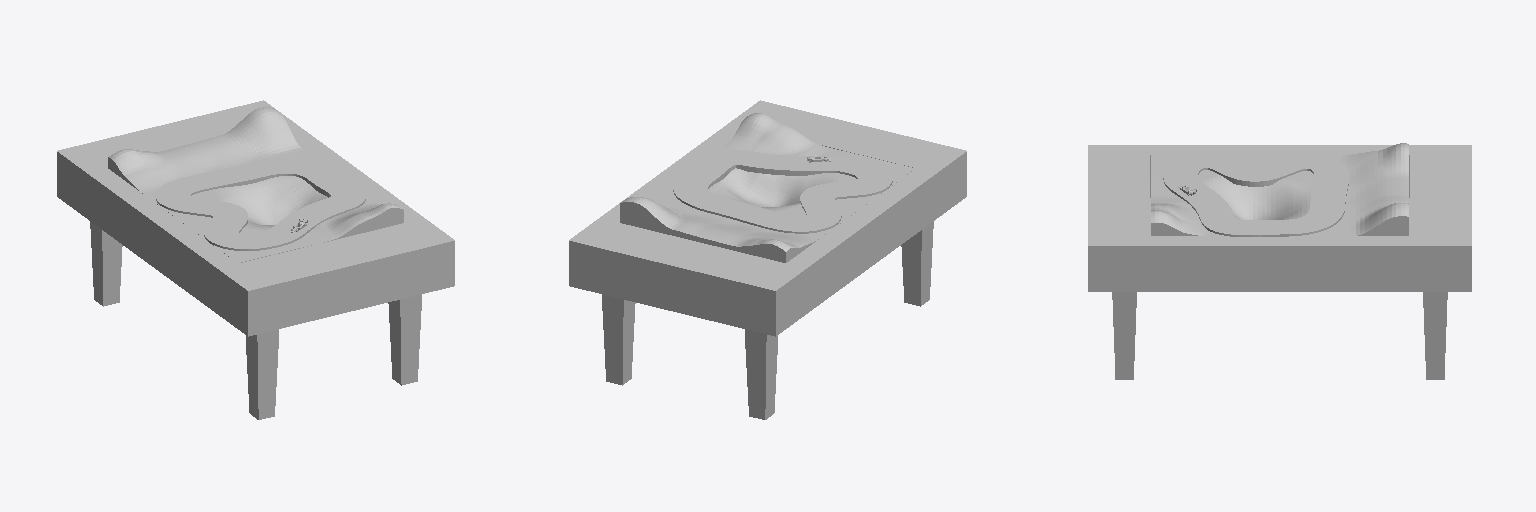
The model's file is NewestTisch49.obj.
The picture shows the model from 3 angles: view 1: azimuth 30°, elevation 25°; view 2: azimuth 150°, elevation 25°; view 3: azimuth 270°, elevation 25°; orthographic projection.
Visible parts, largest first — view 1: Tischplatte_wood_table_001, Landschaft_aerial_grass_rock, off, Bein1_wood_table_001, Bein4_wood_table_001.003, Bein3_wood_table_001.002; view 2: Tischplatte_wood_table_001, Landschaft_aerial_grass_rock, off, Bein2_wood_table_001.001, Bein3_wood_table_001.002, Bein4_wood_table_001.003; view 3: Tischplatte_wood_table_001, Landschaft_aerial_grass_rock, off, Bein1_wood_table_001, Bein2_wood_table_001.001.
Part boxes in pixels (bbox=[...]): Tischplatte_wood_table_001: bbox=[57, 100, 454, 336]; Landschaft_aerial_grass_rock: bbox=[108, 107, 403, 262]; off: bbox=[156, 159, 365, 250]; Bein1_wood_table_001: bbox=[388, 294, 421, 385]; Bein4_wood_table_001.003: bbox=[246, 329, 278, 419]; Bein3_wood_table_001.002: bbox=[90, 221, 122, 306]; Tischplatte_wood_table_001: bbox=[569, 100, 966, 336]; Landschaft_aerial_grass_rock: bbox=[620, 113, 915, 262]; off: bbox=[673, 150, 892, 233]; Bein2_wood_table_001.001: bbox=[602, 294, 635, 385]; Bein3_wood_table_001.002: bbox=[745, 329, 777, 419]; Bein4_wood_table_001.003: bbox=[901, 221, 933, 306]; Tischplatte_wood_table_001: bbox=[1088, 145, 1471, 291]; Landschaft_aerial_grass_rock: bbox=[1151, 143, 1408, 235]; off: bbox=[1163, 153, 1348, 236]; Bein1_wood_table_001: bbox=[1112, 292, 1136, 379]; Bein2_wood_table_001.001: bbox=[1423, 292, 1447, 379].
Bounding box in the file's own units: 5 × 3.91 × 8.